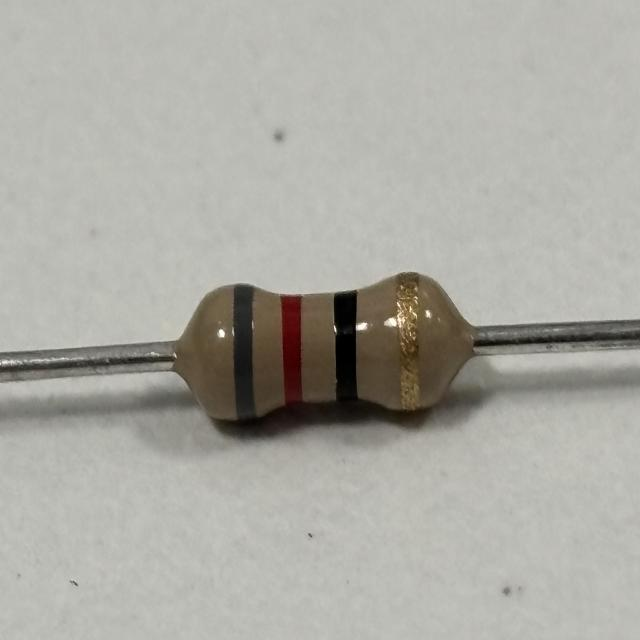resistor: (192, 267, 448, 426)
